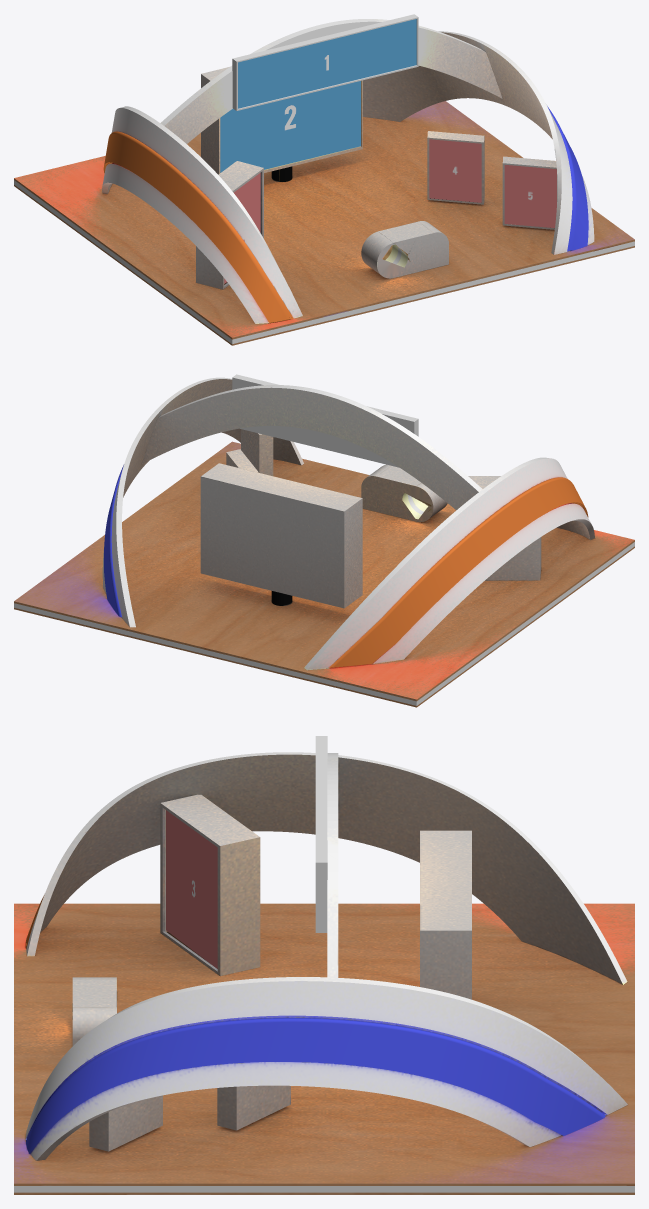
Rendered from stall poweredby.fbx.
The picture shows the model from 3 angles, top to bottom: view 1: azimuth 30°, elevation 25°; view 2: azimuth 150°, elevation 25°; view 3: azimuth 270°, elevation 25°; orthographic projection. The views are drawn at different scales.
Visible parts, largest first — view 1: black gradient.002, 2, 1, emission orange, light layer, 3, 4, emission blue, 5; view 2: black gradient.002, emission orange, light layer, emission blue; view 3: black gradient.002, emission blue, light layer, 5.
Boxes of the visible parts, left/top/right/bottom form: black gradient.002: left=14, top=19, right=634, bottom=345; 2: left=220, top=81, right=360, bottom=172; 1: left=238, top=19, right=416, bottom=108; emission orange: left=103, top=131, right=293, bottom=323; light layer: left=14, top=14, right=634, bottom=344; 3: left=429, top=139, right=481, bottom=202; 4: left=504, top=165, right=556, bottom=227; emission blue: left=547, top=106, right=588, bottom=251; 5: left=224, top=173, right=260, bottom=283; black gradient.002: left=14, top=377, right=634, bottom=707; emission orange: left=329, top=477, right=588, bottom=667; light layer: left=14, top=374, right=634, bottom=705; emission blue: left=104, top=465, right=123, bottom=616; black gradient.002: left=14, top=752, right=634, bottom=1194; emission blue: left=26, top=1018, right=605, bottom=1153; light layer: left=14, top=736, right=634, bottom=1192; 5: left=166, top=810, right=217, bottom=968.
Size of the model in its own units: 1089 by 486 by 1021.
Materials: 9 (6 with a texture image).
